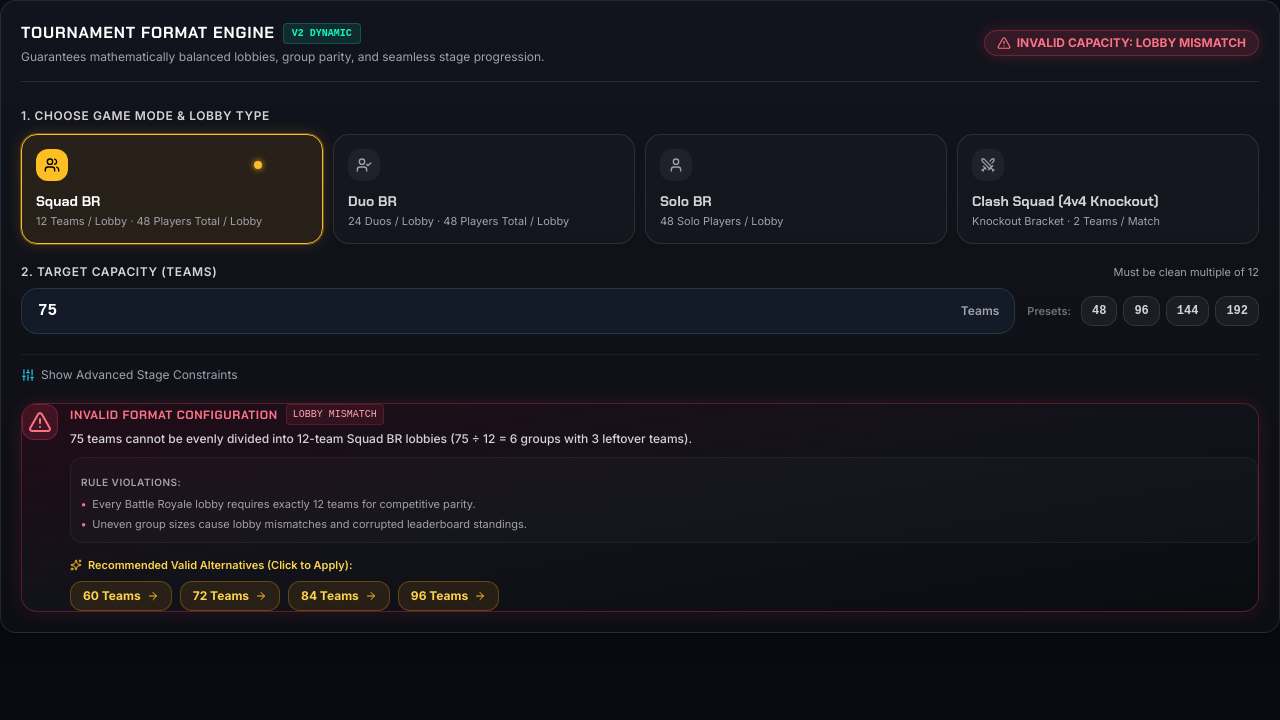
FormatEngineSelector Component › displays invalid status pill and suggestions when capacity is invalid (75 Squad BR), and clicking suggestion fixes it
The image size is (1280, 720).
Expected: the element with test id "status-invalid-pill" is shown, [984,30,1259,56]
Expected: the text "72 Teams" is shown, [193,588,249,604]
Click the button "72 Teams" at (230, 596), box [180,581,280,611]
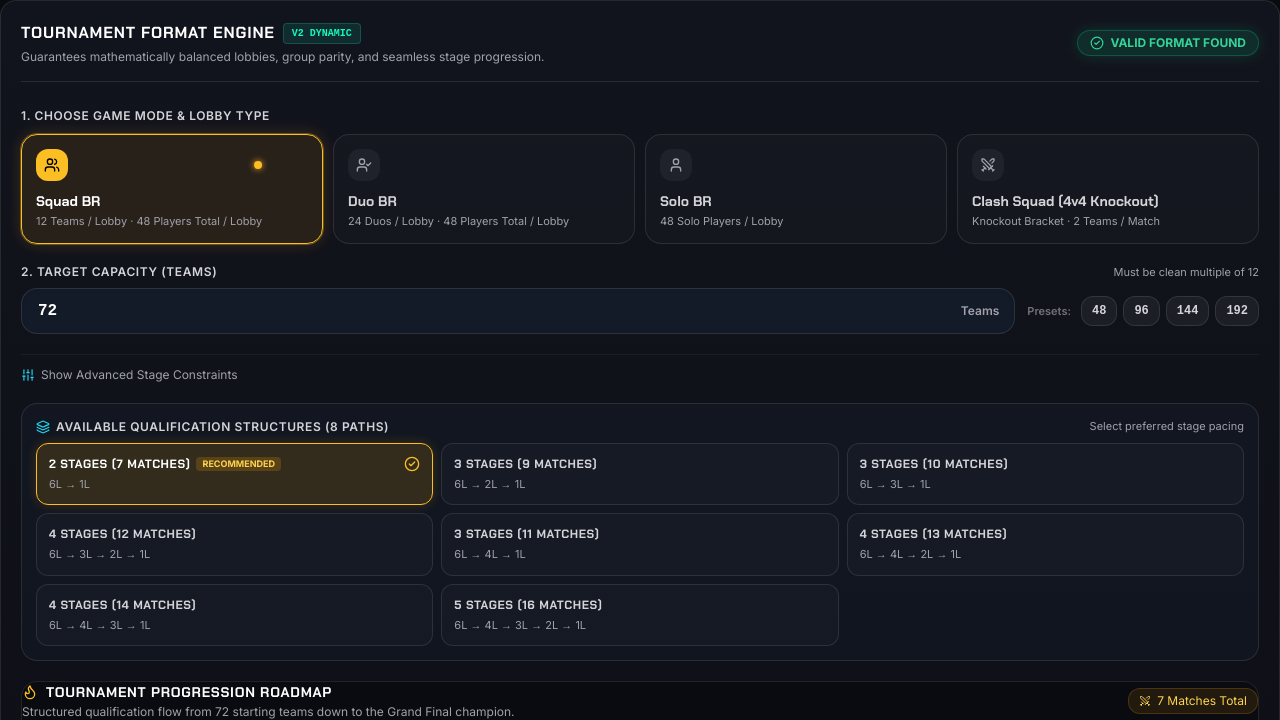
Result: the element with test id "status-valid-pill" is shown at [1077,30,1259,56]
